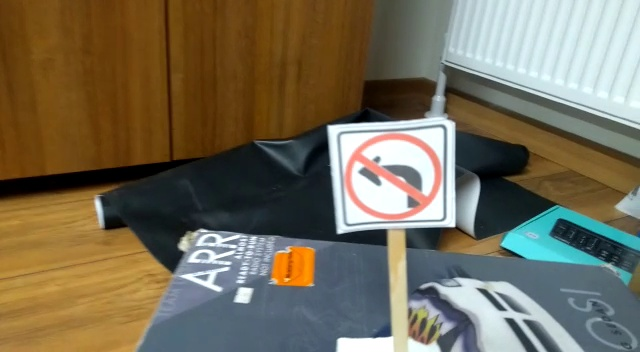sola_donulmez: (341, 131, 442, 223)
